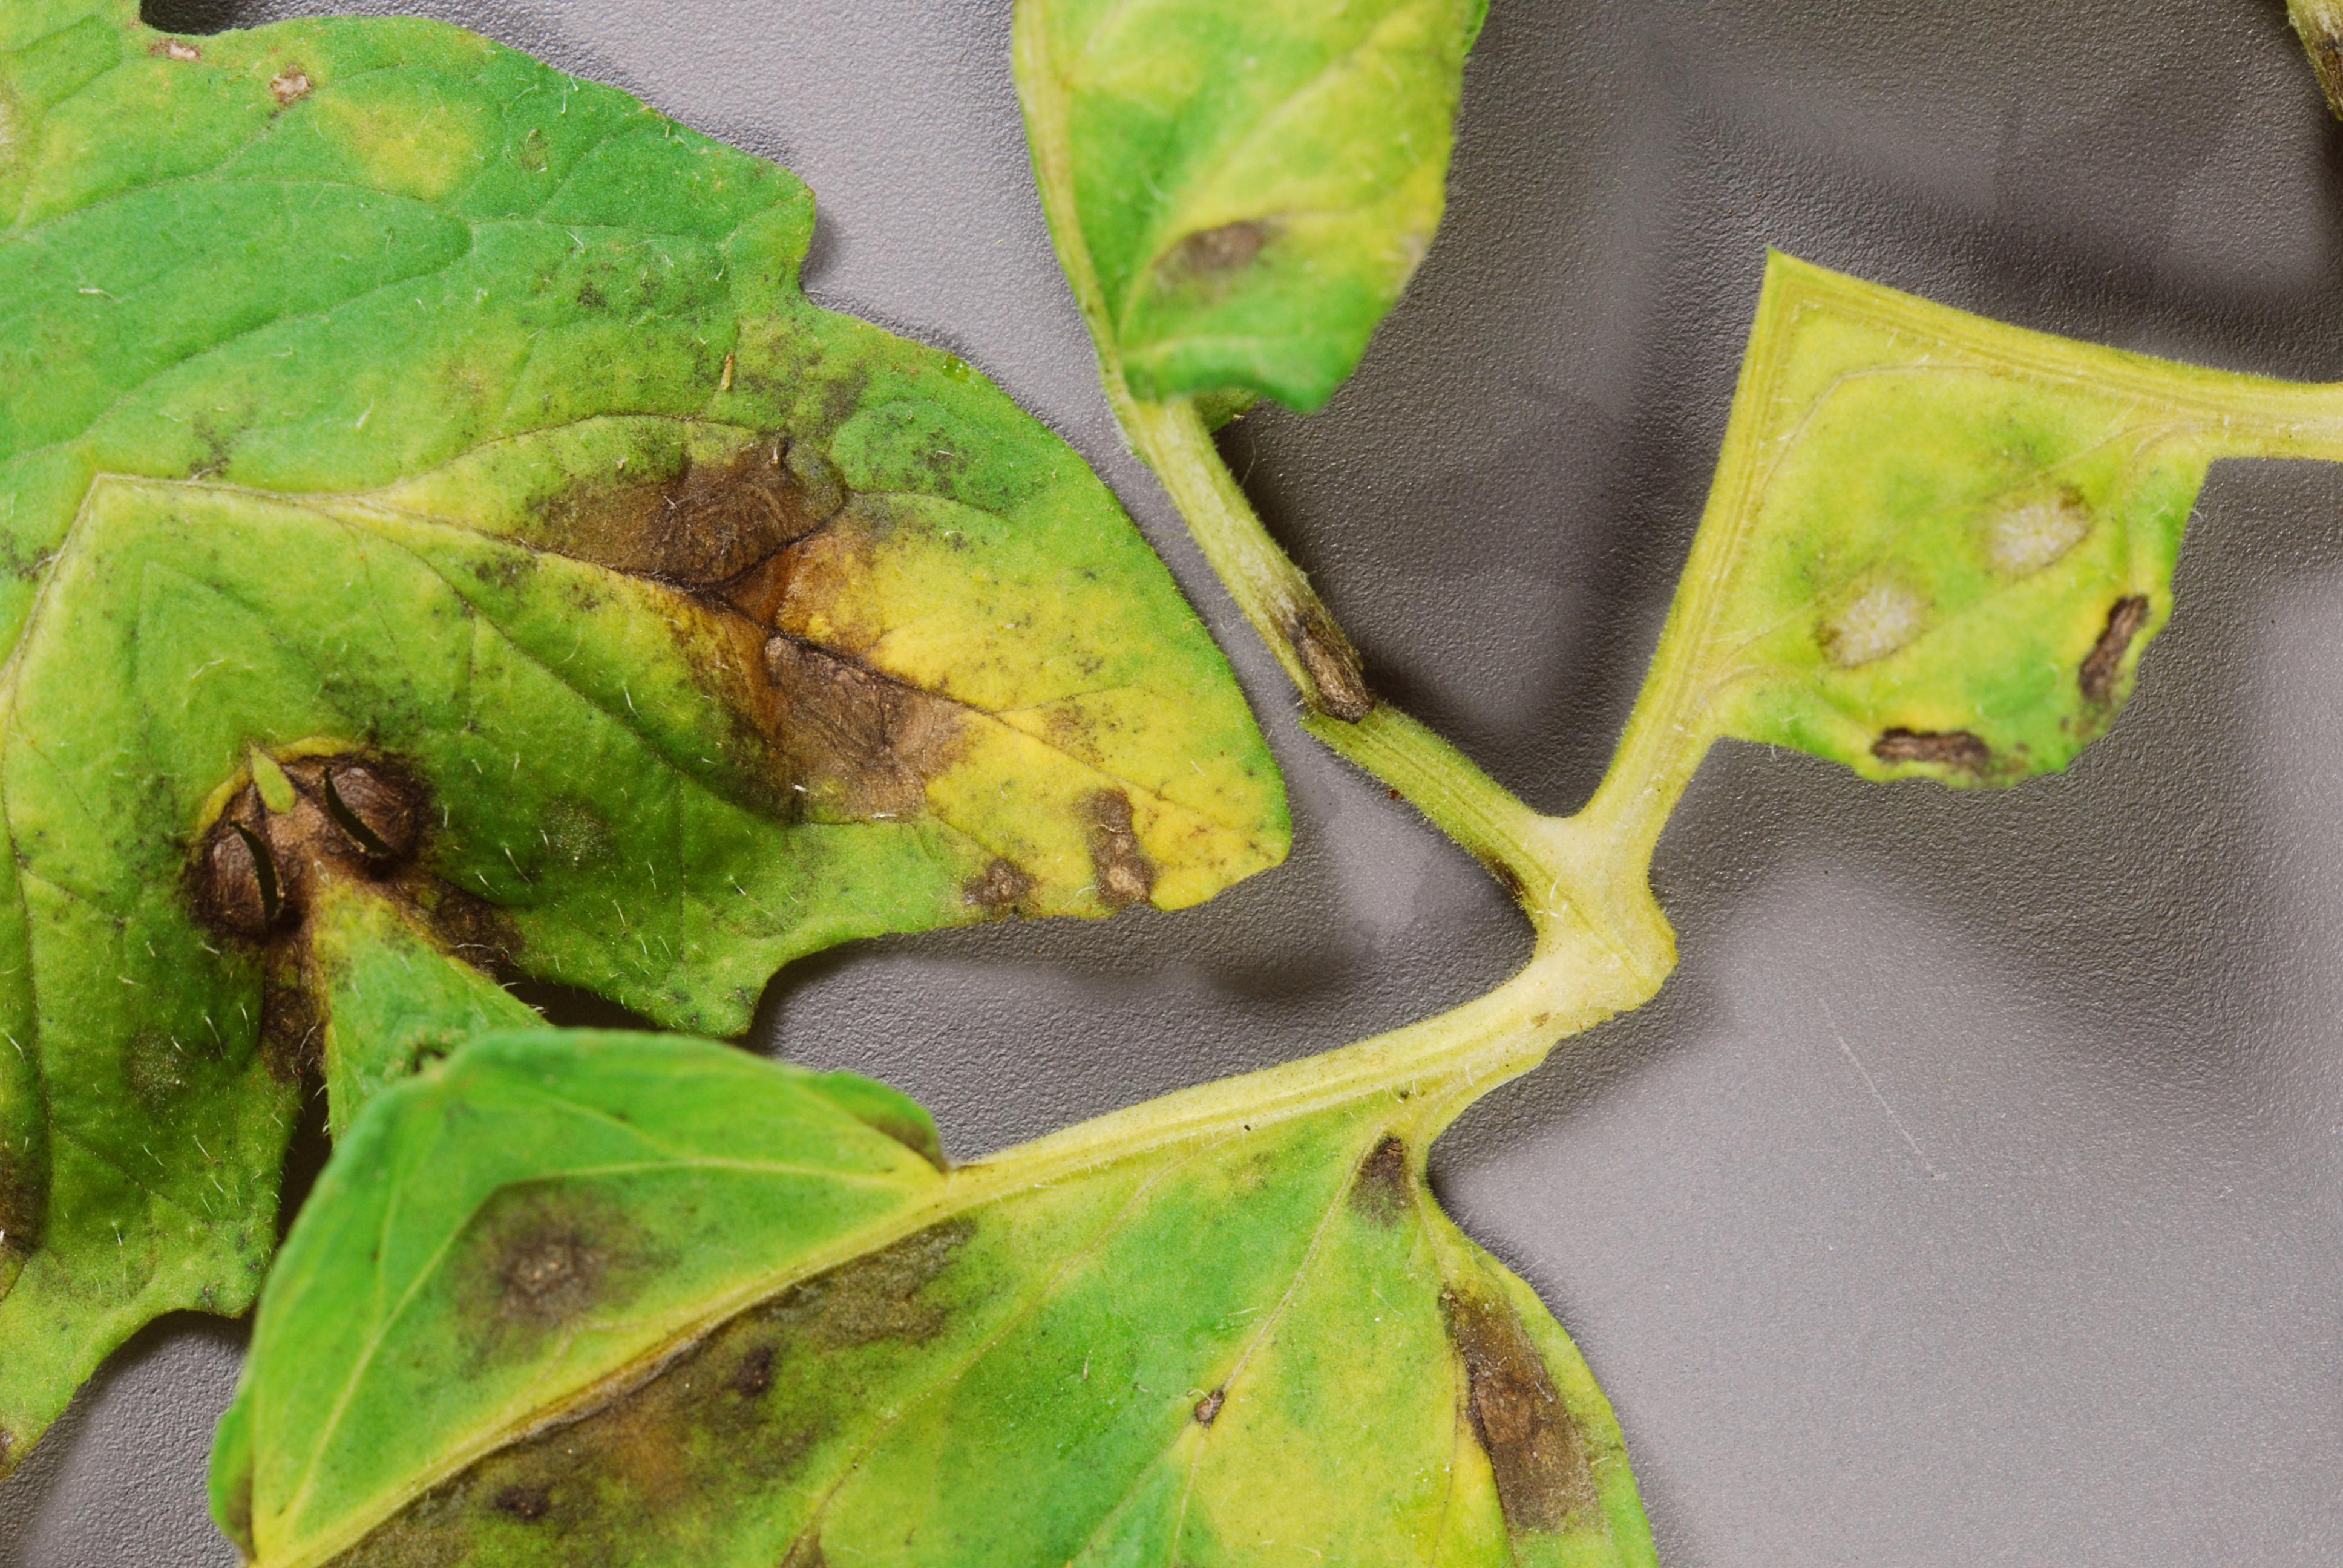Tomato Early blight leaf: (0, 0, 1366, 1326), (605, 932, 1821, 1568)
